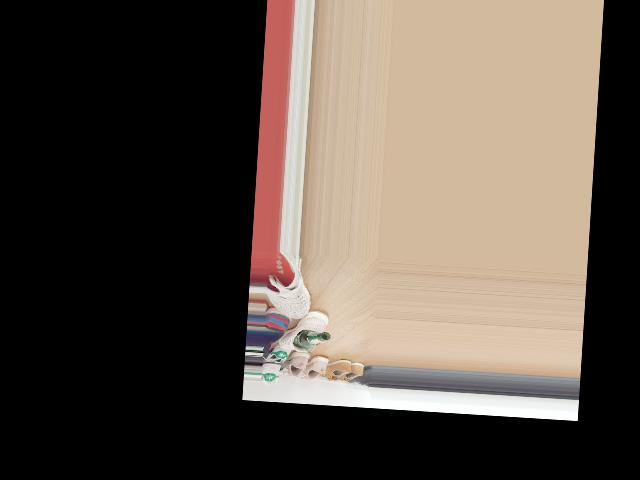beer: (293, 329, 331, 349)
